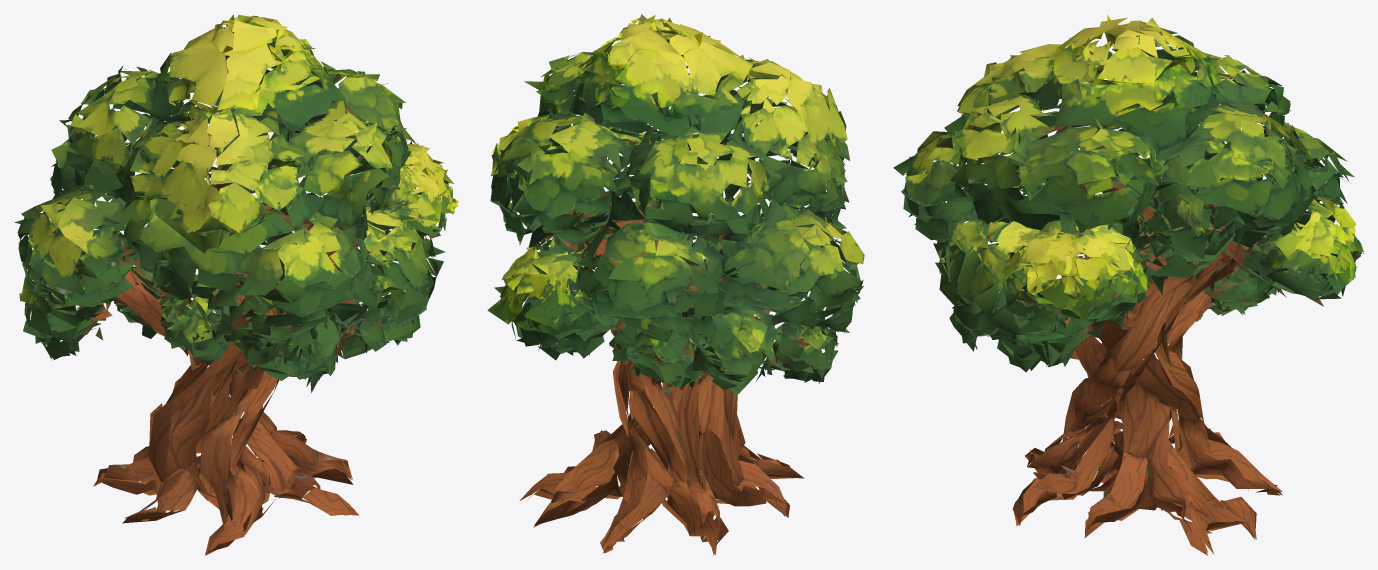
Rendered from tree_round_v.glb.
3 renders of one model, left to right at view 1: azimuth 30°, elevation 25°; view 2: azimuth 150°, elevation 25°; view 3: azimuth 270°, elevation 25°, orthographic. The views are drawn at different scales.
Parts seen in each view (by area): view 1: Body; view 2: Body; view 3: Body.
Part boxes in pixels (x1,y1,x2,y2): Body: (14,14,458,555); Body: (487,14,864,555); Body: (893,14,1363,555).
Size of the model in its own units: 3.93 by 4.61 by 4.05.
1 material, 1 textured.
